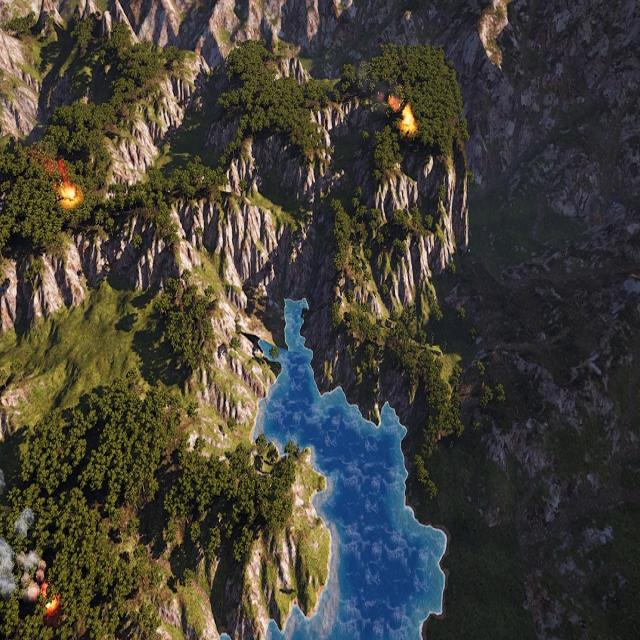fire: (42, 584, 59, 615), (403, 105, 417, 131), (62, 183, 77, 201)
smoke: (0, 468, 47, 604), (42, 157, 68, 183), (388, 93, 404, 112)
